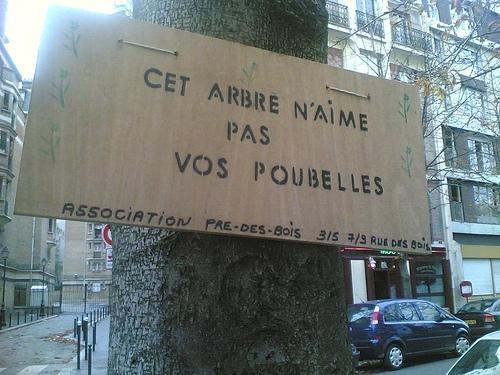car: (346, 299, 473, 371), (446, 330, 500, 375), (453, 296, 500, 344)
